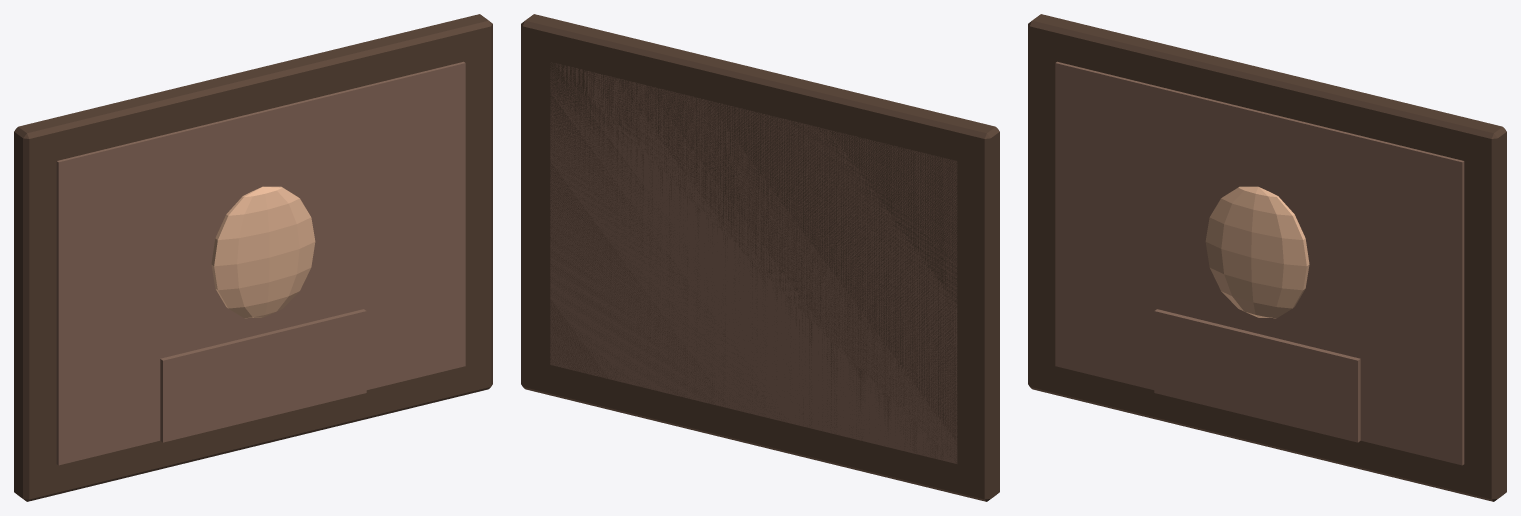
The model's file is wall_art_portrait.fbx.
The picture shows the model from 3 angles, left to right: view 1: azimuth 30°, elevation 25°; view 2: azimuth 150°, elevation 25°; view 3: azimuth 330°, elevation 25°; orthographic projection.
Parts seen in each view (by area): view 1: wall_art_portrait; view 2: wall_art_portrait; view 3: wall_art_portrait.
Boxes of the visible parts, x1,y1,x2,y2 form: wall_art_portrait: (14, 14, 492, 501); wall_art_portrait: (521, 14, 999, 501); wall_art_portrait: (1028, 14, 1506, 501).
Size of the model in its own units: 0.6 by 0.45 by 0.051.
